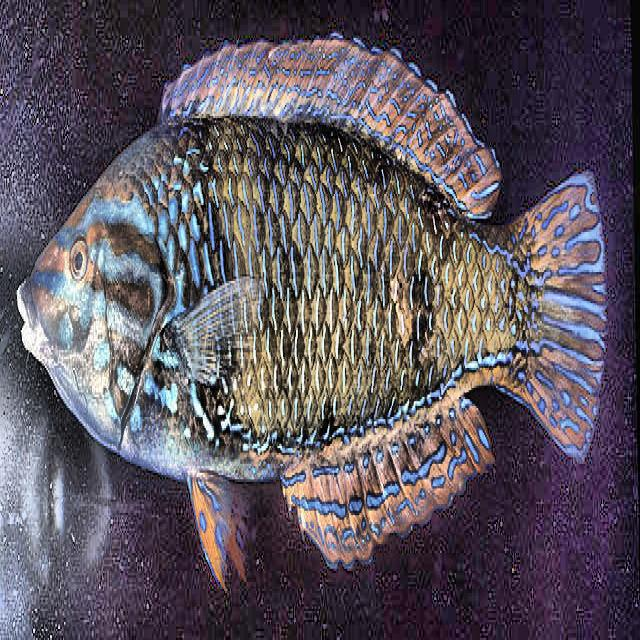fish: (18, 36, 604, 602)
